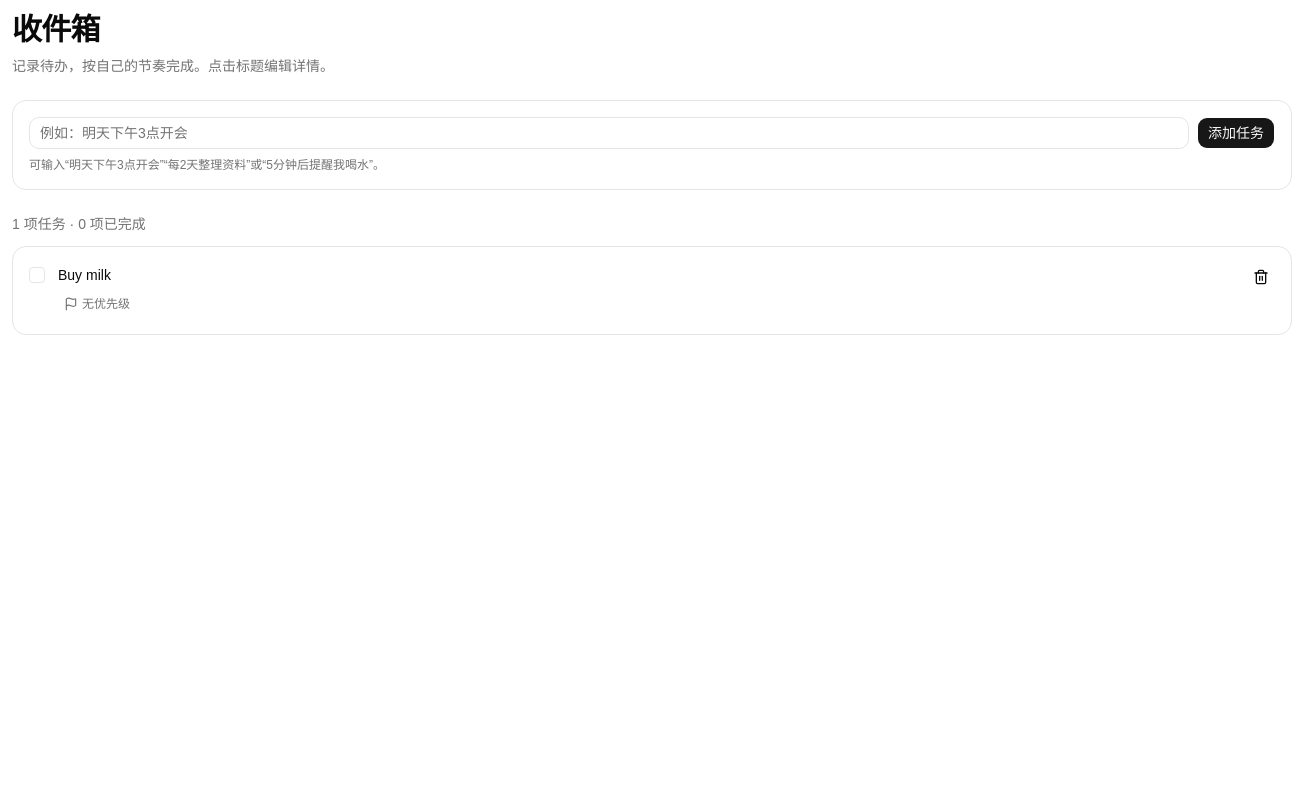
opens task details when clicking the task card body
What coordinates should you click on to do the following:
click the list item "Buy milk"
I would click on:
 (652, 290)
Its box is [12,246,1291,335].
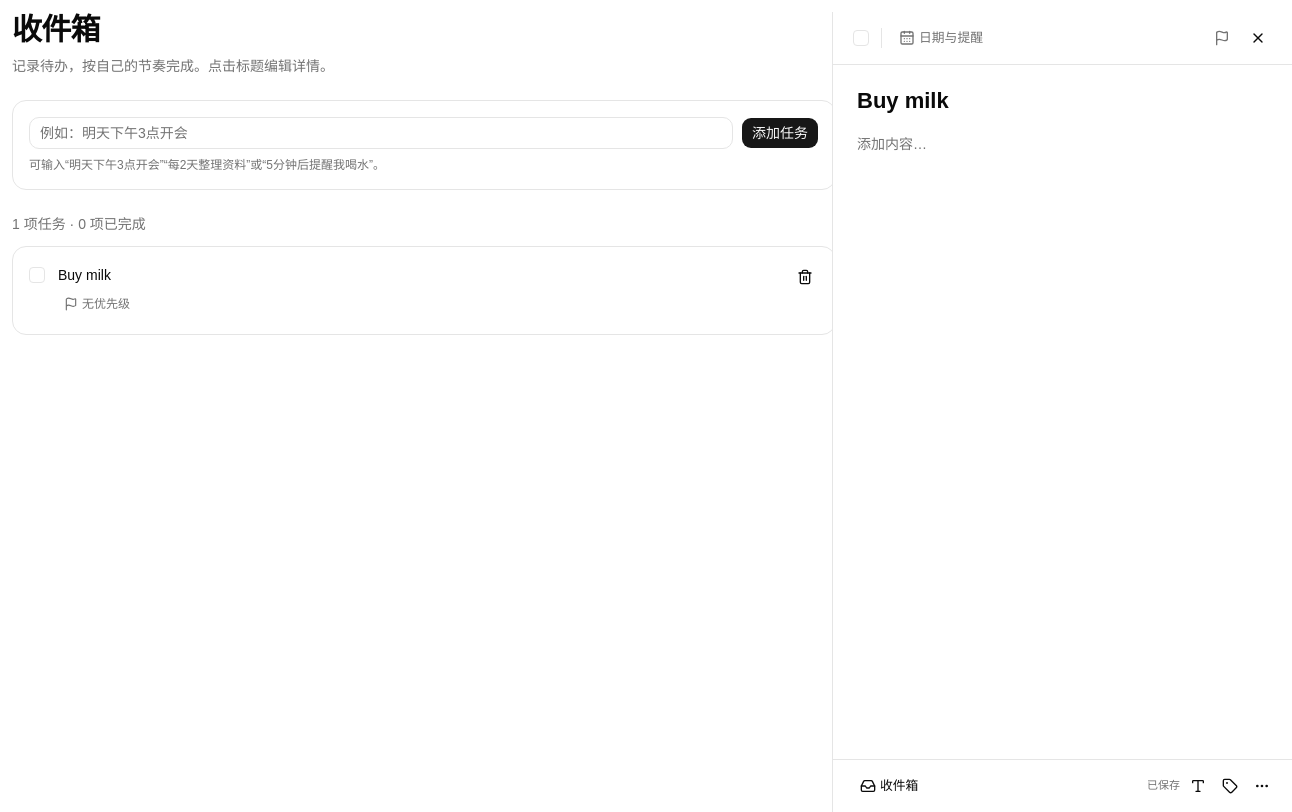
Expected: the text box named "任务标题" is shown, [857,85,1268,117]
